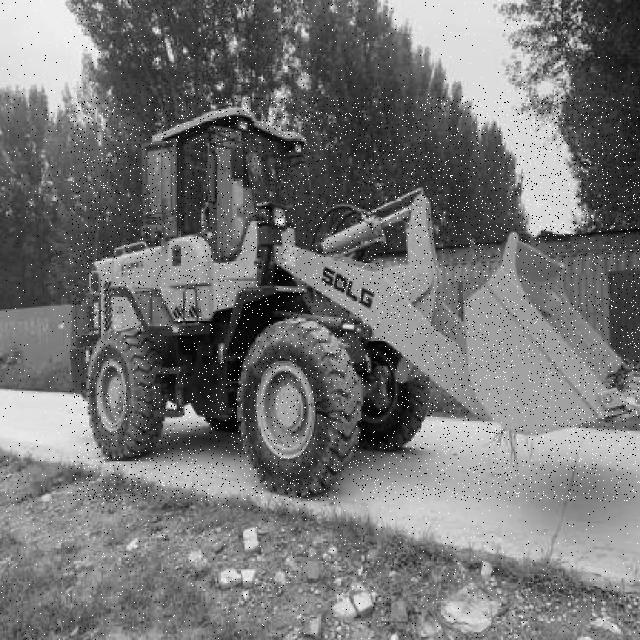Construction Equipment: (70, 97, 640, 501)
